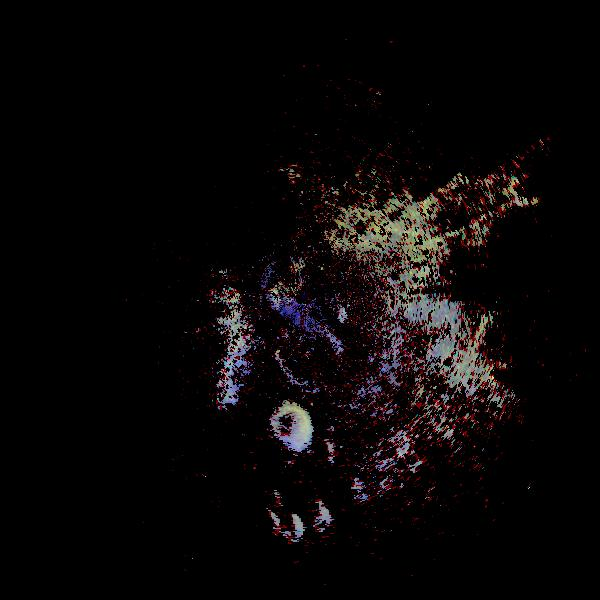roost: (267, 402, 315, 450), (266, 506, 308, 548), (292, 494, 334, 536), (247, 506, 286, 545), (257, 485, 284, 512)
